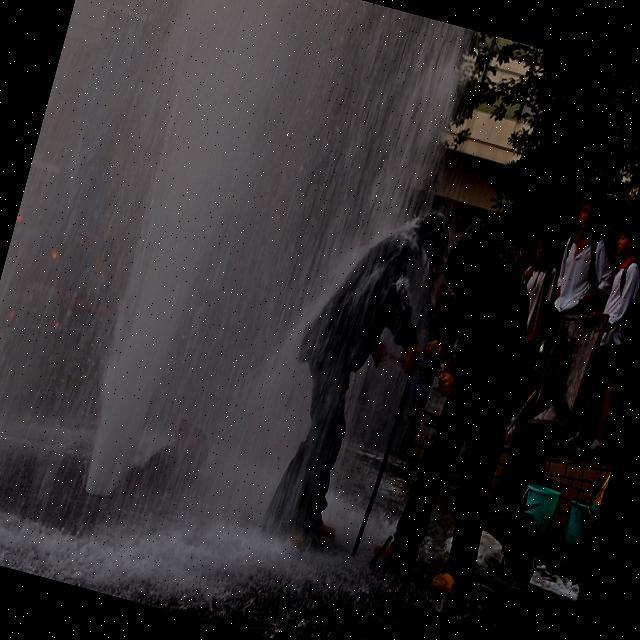fire_hydrant: (140, 412, 212, 493), (75, 482, 118, 530)
